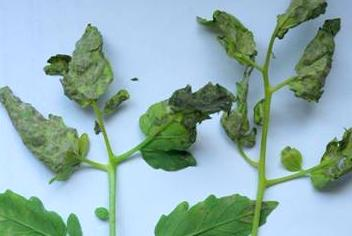Tomato mold leaf: (138, 78, 235, 173), (1, 84, 92, 184), (151, 192, 280, 236), (62, 13, 122, 107), (0, 185, 73, 236)
